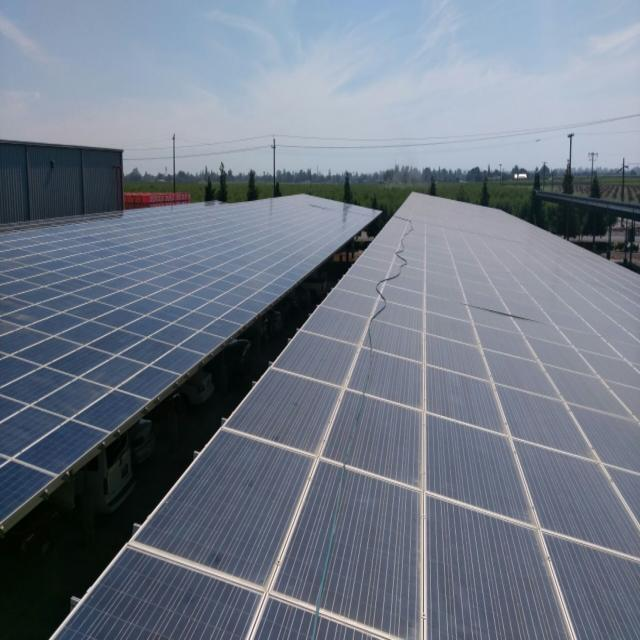dust-solar-panel: (58, 191, 640, 640)
